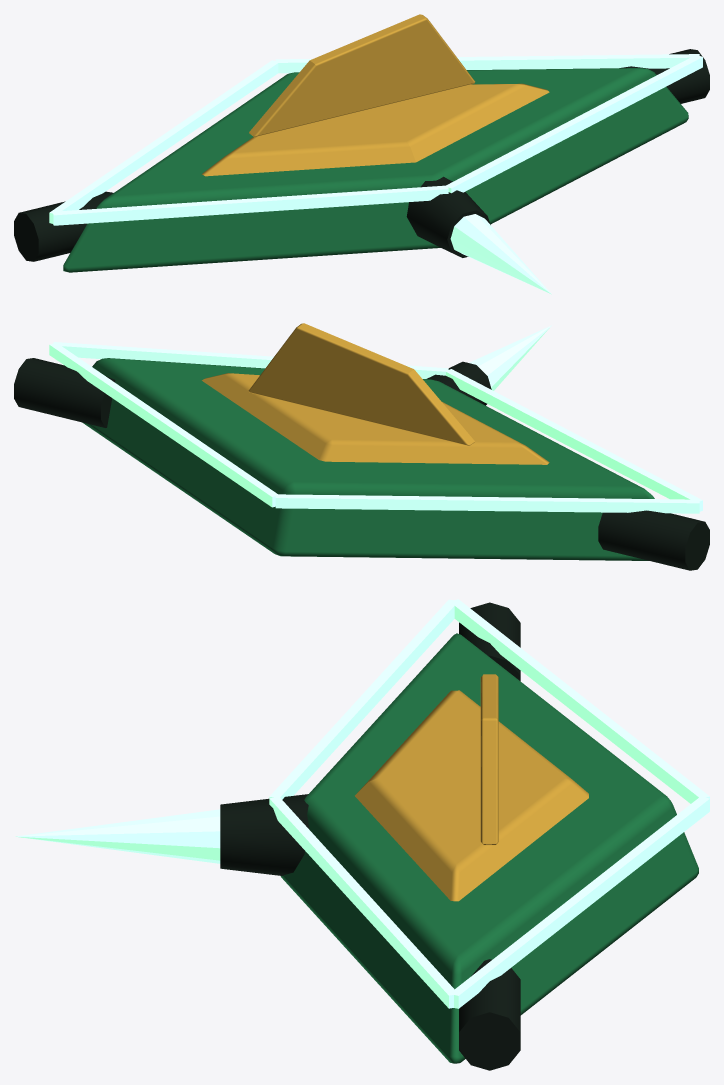
The model's file is lancer.glb.
3 renders of one model, top to bottom at view 1: azimuth 30°, elevation 25°; view 2: azimuth 150°, elevation 25°; view 3: azimuth 270°, elevation 25°, orthographic. The views are drawn at different scales.
Visible parts, largest first — view 1: lancer_hull, lancer_trim, lancer_gold, lancer_crest, lancer_pods, lancer_spike_housing, lancer_spike; view 2: lancer_hull, lancer_trim, lancer_crest, lancer_gold, lancer_pods, lancer_spike, lancer_spike_housing; view 3: lancer_hull, lancer_gold, lancer_trim, lancer_pods, lancer_spike, lancer_spike_housing, lancer_crest.
Boxes of the visible parts, <box> form: lancer_hull: <box>63,68,688,272</box>; lancer_trim: <box>49,54,702,225</box>; lancer_gold: <box>202,83,549,176</box>; lancer_crest: <box>249,14,475,137</box>; lancer_pods: <box>14,49,709,261</box>; lancer_spike_housing: <box>406,176,490,257</box>; lancer_spike: <box>450,214,551,294</box>; lancer_hull: <box>82,358,654,560</box>; lancer_trim: <box>49,342,702,513</box>; lancer_crest: <box>248,323,474,445</box>; lancer_gold: <box>202,373,549,464</box>; lancer_pods: <box>14,358,709,570</box>; lancer_spike: <box>469,325,551,390</box>; lancer_spike_housing: <box>427,361,491,405</box>; lancer_hull: <box>280,633,698,1063</box>; lancer_gold: <box>355,690,588,901</box>; lancer_trim: <box>269,599,709,1008</box>; lancer_pods: <box>459,602,520,1070</box>; lancer_spike: <box>15,809,220,863</box>; lancer_spike_housing: <box>220,794,309,875</box>; lancer_crest: <box>480,674,498,845</box>.
Size of the model in its own units: 5.4 by 1.21 by 3.88.
